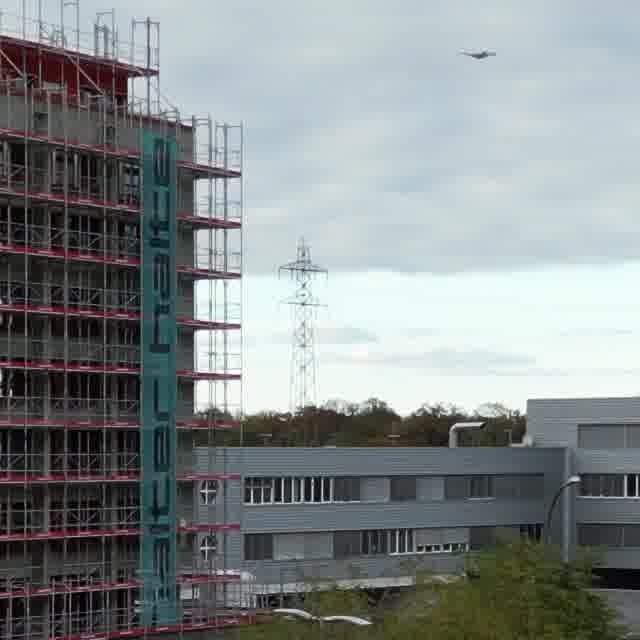Drohne: (460, 49, 496, 59)
